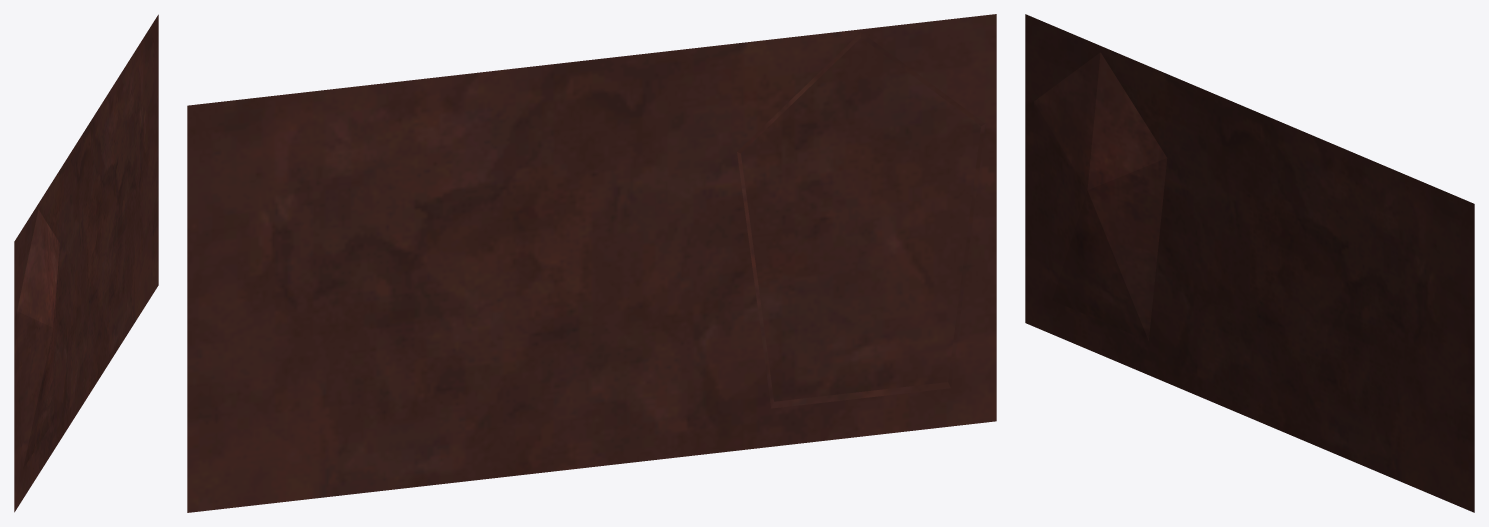
The model's file is lava_half_diagonal_02.fbx.
3 renders of one model, left to right at view 1: azimuth 30°, elevation 25°; view 2: azimuth 150°, elevation 25°; view 3: azimuth 270°, elevation 25°, orthographic. The views are drawn at different scales.
Visible parts, largest first — view 1: obj1.030; view 2: obj1.030; view 3: obj1.030.
Part boxes in pixels (x1,y1,x2,y2): obj1.030: (14, 14, 158, 512); obj1.030: (187, 14, 996, 512); obj1.030: (1025, 14, 1474, 512).
Size of the model in its own units: 3.63 by 2.75 by 3.63.
